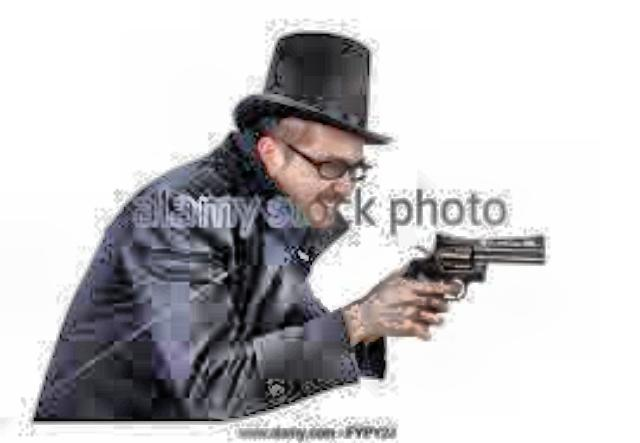pistol: (393, 216, 554, 346)
